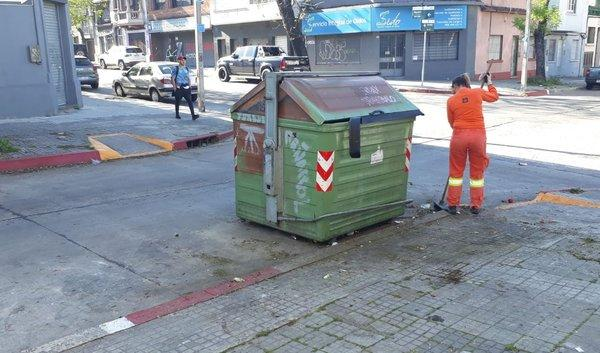Trash: (227, 67, 423, 245)
